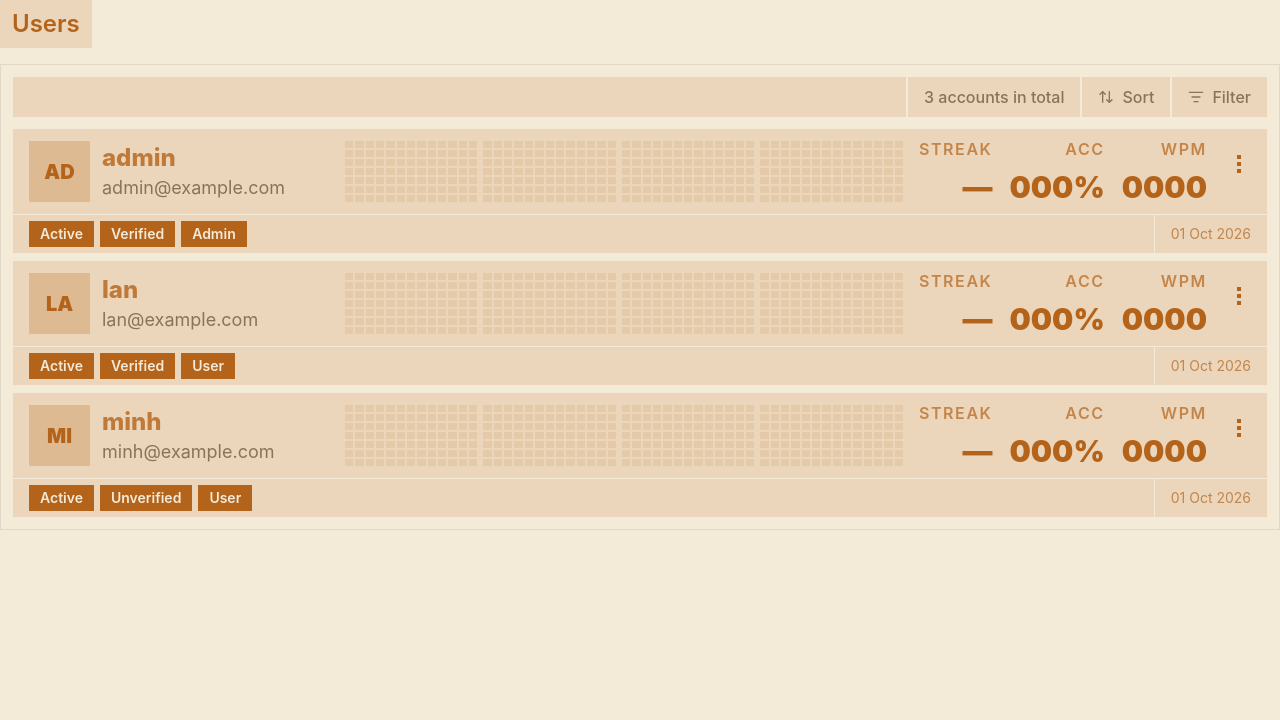
AdminUsersPage › edits a user
The image size is (1280, 720).
Click the button named "Actions for minh@example.com" at x=1239, y=428, box [1223,412,1255,444]
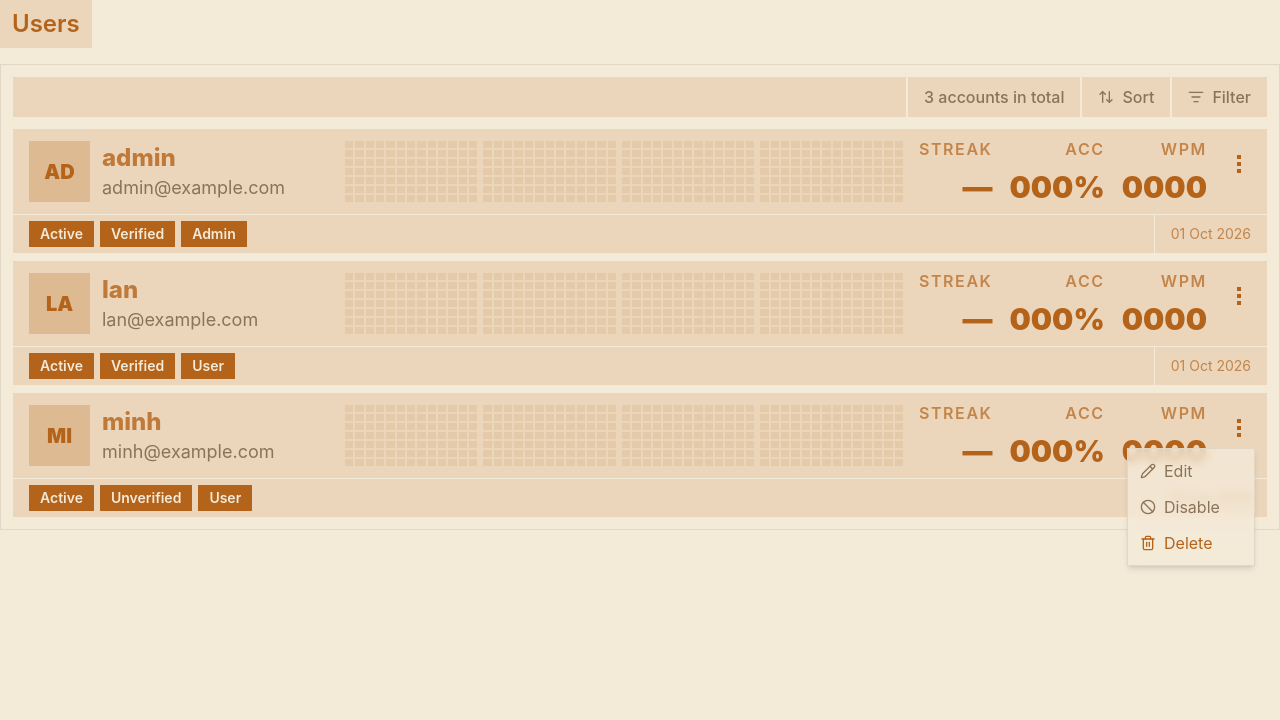
Click the menu item "Edit" at x=1166, y=471, box [1140,461,1192,481]
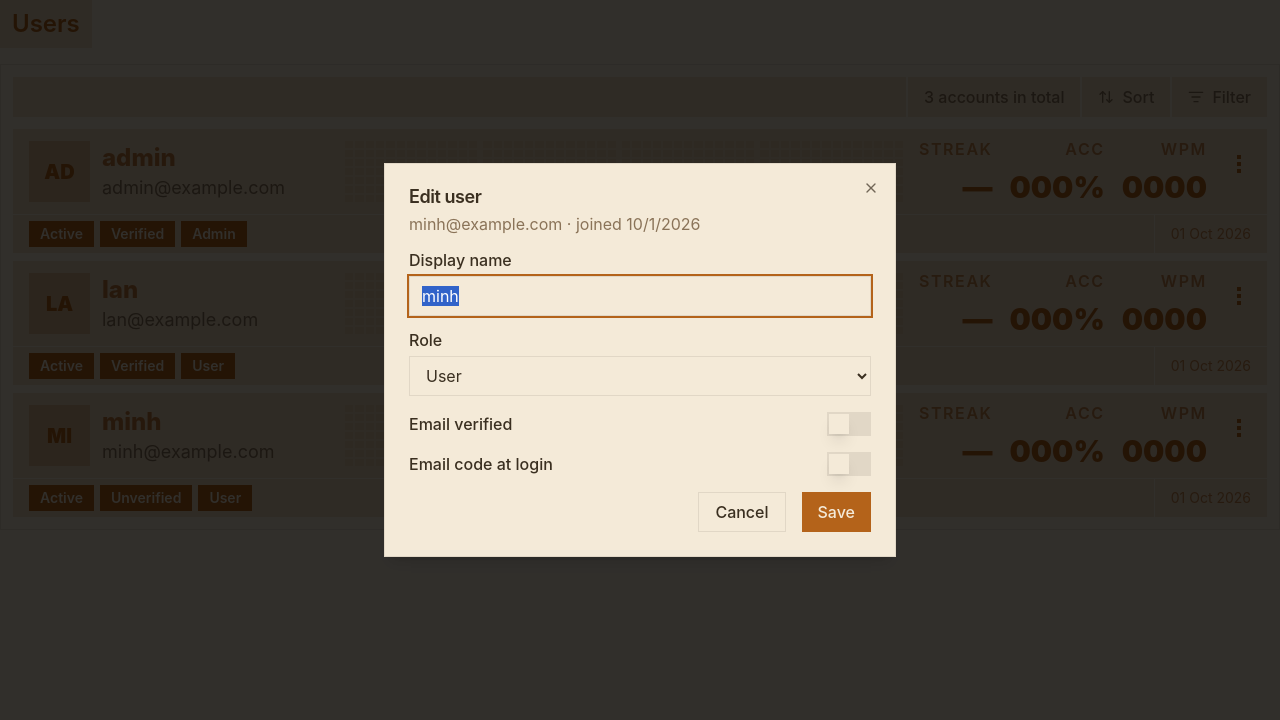
Select "Admin" in the dropdown labelled "Role" at x=640, y=376, box [409,356,871,396]
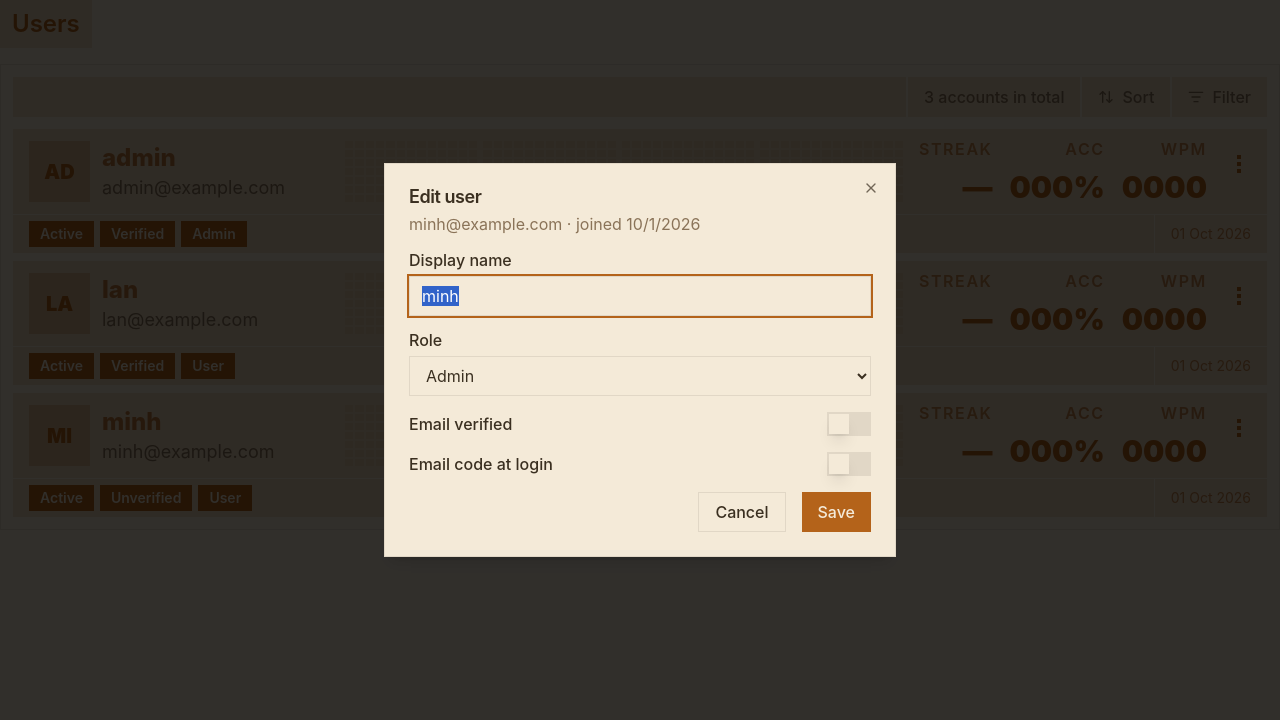
Click the switch named "Email verified" in the row of "Email verified" at x=849, y=424, box [827,412,871,436]
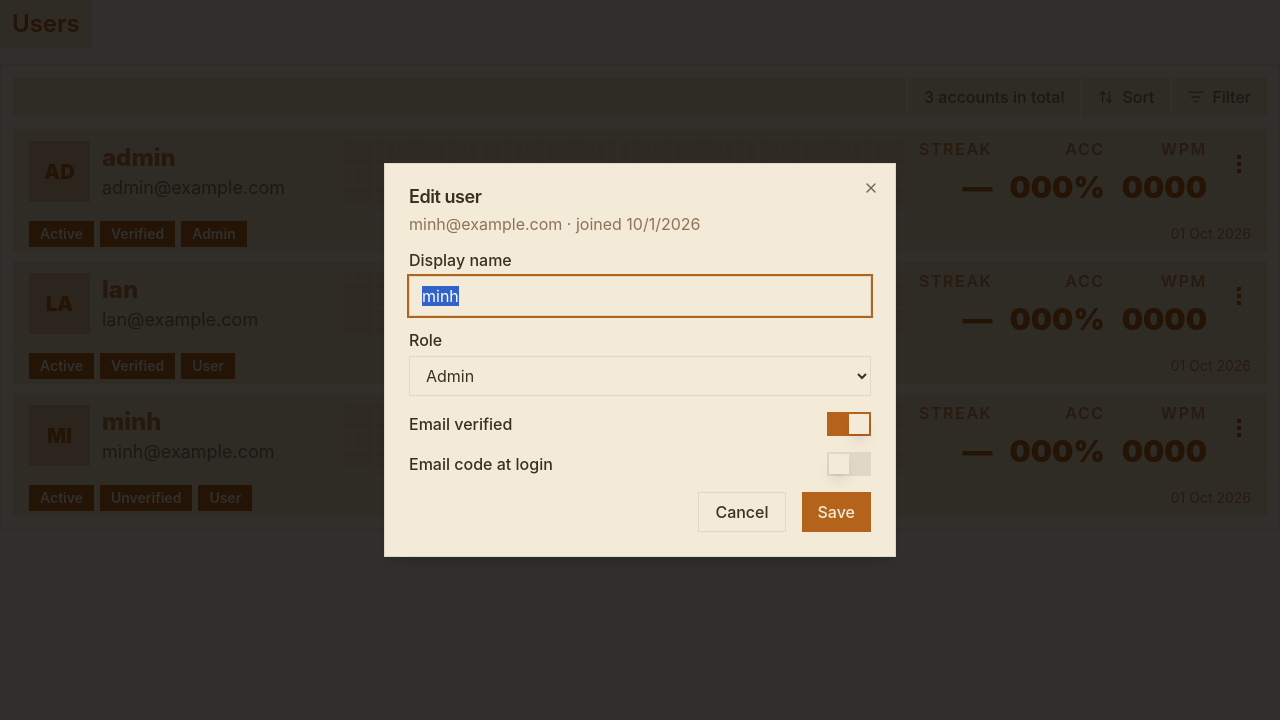
Click the button "Save" at x=836, y=512, box [802,492,871,532]
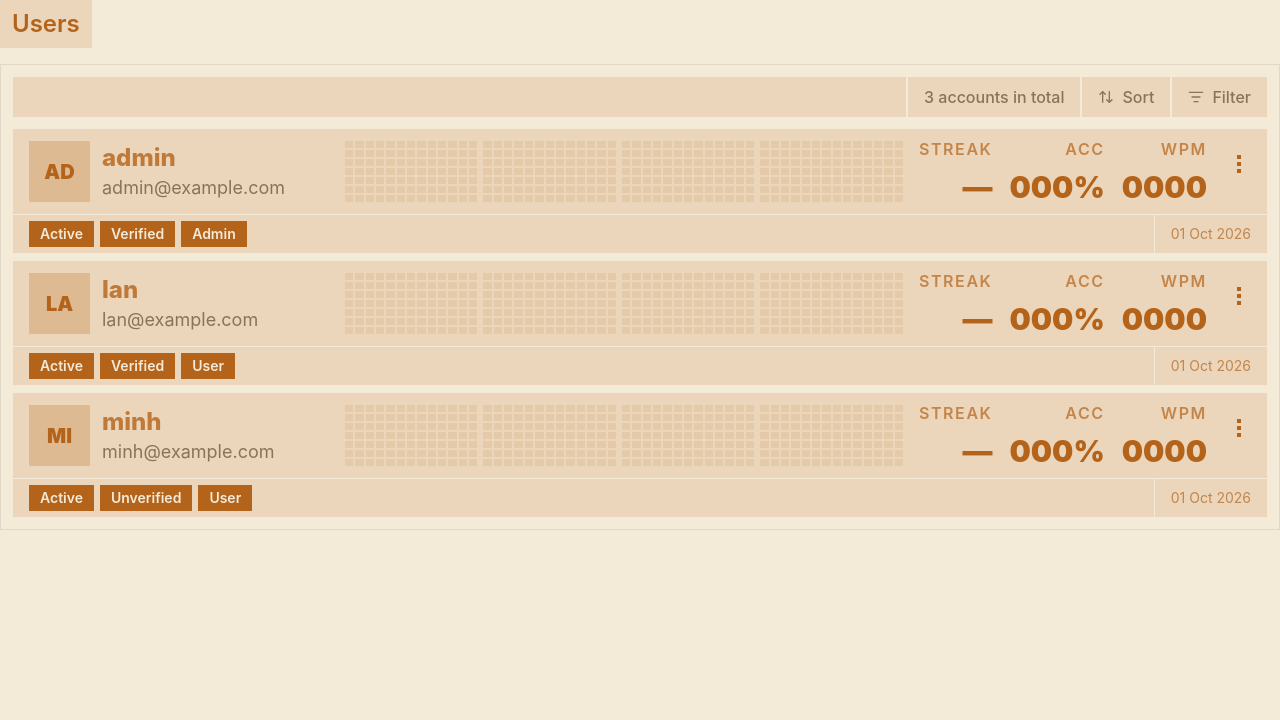
Check: the dialog is gone
